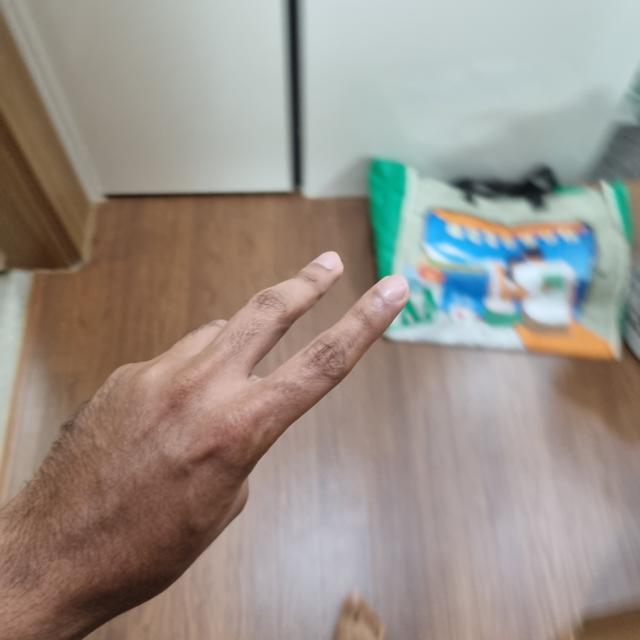Scissors: (1, 259, 401, 630)
